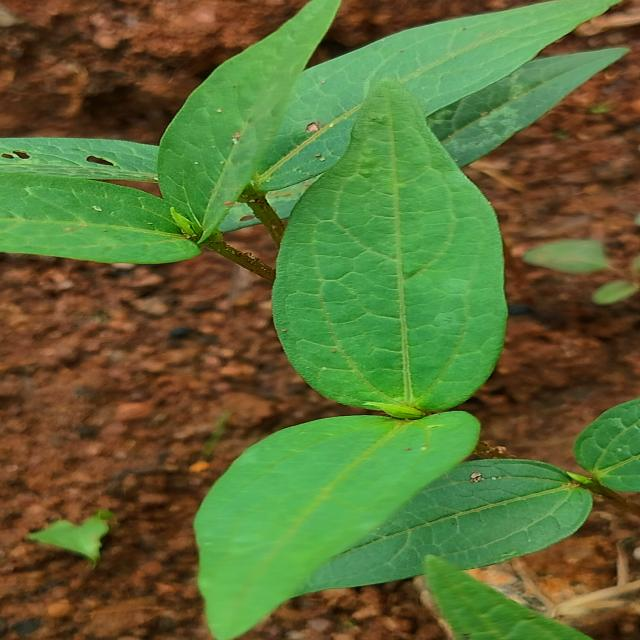Black gram_healthy: (273, 82, 510, 417), (187, 410, 480, 640), (157, 0, 344, 236)
